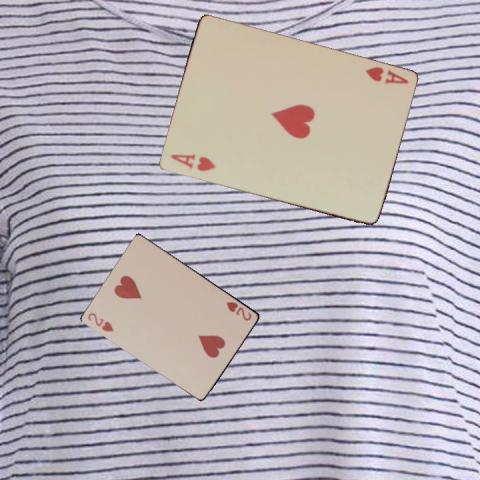2h: (85, 309, 115, 333), (224, 299, 253, 322)
Ah: (167, 152, 217, 174), (362, 64, 409, 86)
